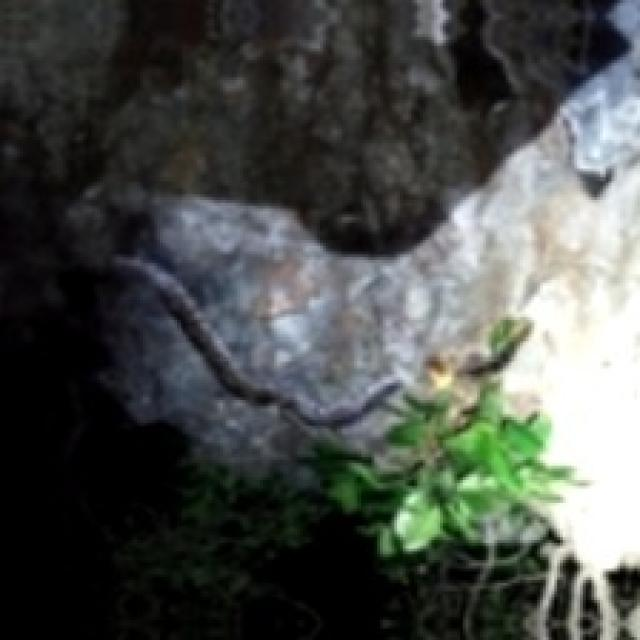reticulated python: (111, 254, 400, 426), (114, 257, 400, 429)
